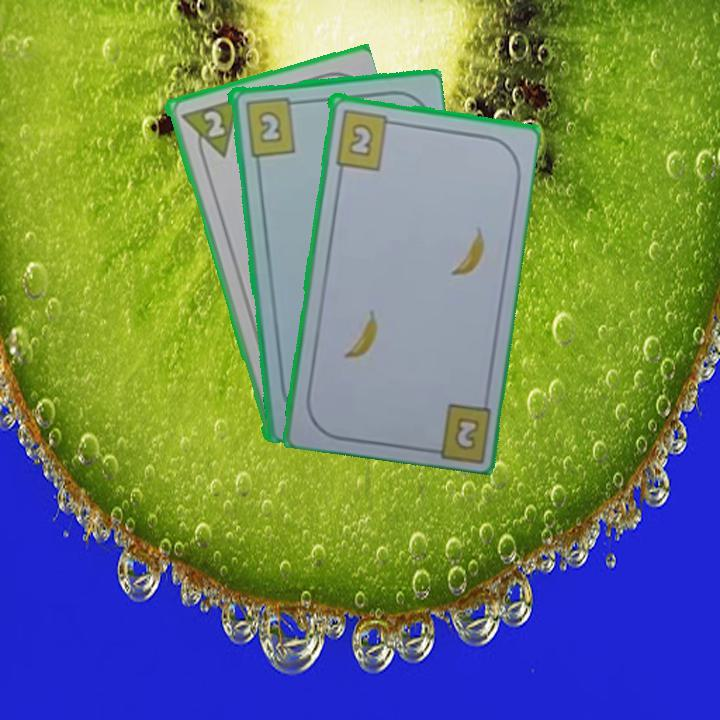2b: (331, 105, 399, 172), (241, 93, 302, 159), (450, 413, 482, 453)
2p: (176, 94, 241, 165)
